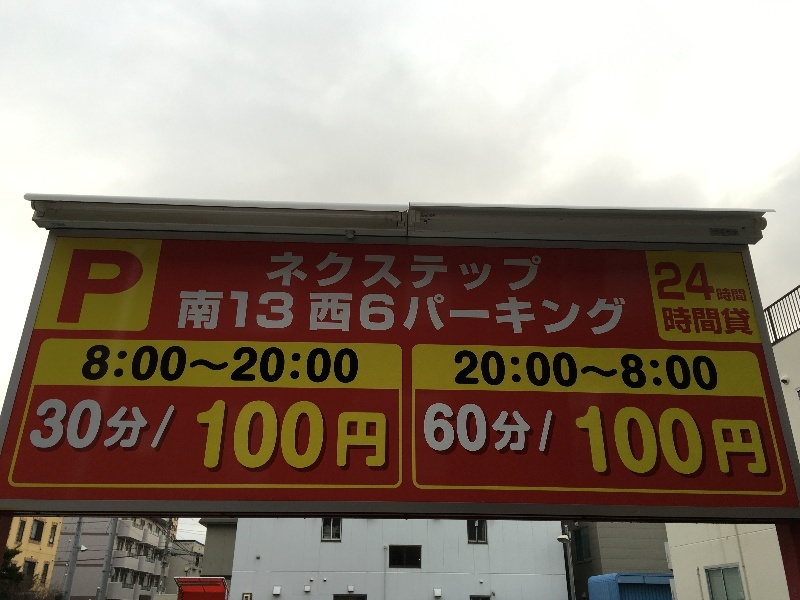text: (81, 245, 96, 332), (97, 245, 112, 332), (113, 245, 128, 332), (129, 245, 144, 332), (577, 400, 592, 483), (593, 400, 608, 483), (609, 400, 624, 483), (625, 400, 640, 483), (641, 400, 656, 483), (657, 400, 672, 483), (673, 400, 688, 483), (689, 400, 704, 483), (705, 400, 720, 483), (721, 400, 736, 483), (737, 400, 752, 483), (753, 400, 768, 483), (209, 393, 224, 474), (225, 393, 240, 474), (241, 393, 256, 474), (257, 393, 272, 474), (273, 393, 288, 474), (289, 393, 304, 474), (305, 393, 320, 474), (321, 393, 336, 474), (337, 393, 352, 474), (353, 393, 368, 474), (369, 393, 384, 474), (67, 245, 80, 332), (545, 397, 561, 459), (433, 397, 448, 459), (449, 397, 464, 459), (465, 397, 480, 459), (481, 397, 496, 459), (497, 397, 512, 459), (513, 397, 528, 459), (529, 397, 544, 459), (49, 396, 64, 456), (65, 396, 80, 456), (81, 396, 96, 456), (97, 396, 112, 456), (113, 396, 128, 456), (129, 396, 144, 456), (145, 396, 160, 456), (161, 396, 176, 456), (197, 393, 208, 474), (193, 287, 208, 340), (209, 287, 224, 340), (225, 287, 240, 340), (241, 287, 256, 340), (257, 287, 272, 340), (273, 287, 288, 340), (289, 287, 304, 340), (305, 287, 320, 340), (321, 287, 336, 340), (337, 287, 352, 340), (353, 287, 368, 340), (369, 287, 384, 340), (385, 287, 400, 340), (401, 287, 416, 340), (417, 287, 432, 340), (433, 287, 448, 340), (449, 287, 464, 340), (465, 287, 480, 340), (481, 287, 496, 340), (497, 287, 512, 340), (513, 287, 528, 340), (529, 287, 544, 340), (545, 287, 560, 340), (561, 287, 576, 340), (577, 287, 592, 340), (593, 287, 608, 340), (609, 287, 624, 340), (657, 256, 672, 306), (673, 256, 688, 306), (689, 256, 704, 306), (465, 346, 480, 396), (481, 346, 496, 396), (497, 346, 512, 396), (513, 346, 528, 396), (529, 346, 544, 396), (545, 346, 560, 396), (561, 346, 576, 396), (577, 346, 592, 396), (593, 346, 608, 396), (609, 346, 624, 396), (625, 346, 640, 396), (641, 346, 656, 396), (657, 346, 672, 396), (673, 346, 688, 396), (689, 346, 704, 396), (705, 346, 720, 396), (81, 340, 96, 388), (97, 340, 112, 388), (113, 340, 128, 388), (129, 340, 144, 388), (145, 340, 160, 388), (161, 340, 176, 388), (177, 340, 192, 388), (193, 340, 208, 388), (209, 340, 224, 388), (225, 340, 240, 388), (241, 340, 256, 388), (257, 340, 272, 388), (273, 340, 288, 388), (289, 340, 304, 388), (305, 340, 320, 388), (321, 340, 336, 388), (337, 340, 352, 388), (705, 256, 719, 306), (145, 245, 153, 332), (273, 250, 288, 296), (289, 250, 304, 296), (305, 250, 320, 296), (321, 250, 336, 296), (337, 250, 352, 296), (353, 250, 368, 296), (369, 250, 384, 296), (385, 250, 400, 296), (401, 250, 416, 296), (417, 250, 432, 296), (433, 250, 448, 296), (449, 250, 464, 296), (465, 250, 480, 296), (481, 250, 496, 296), (497, 250, 512, 296), (513, 250, 528, 296), (529, 250, 544, 296), (179, 287, 192, 340), (385, 393, 393, 474), (353, 340, 365, 388), (423, 397, 432, 459), (453, 346, 464, 396), (39, 396, 48, 456), (673, 305, 688, 339), (689, 305, 704, 339), (705, 305, 720, 339), (721, 305, 736, 339), (737, 305, 752, 339), (769, 400, 774, 483), (721, 280, 736, 307), (737, 280, 752, 307), (662, 305, 672, 339), (573, 400, 576, 483), (177, 396, 181, 456), (267, 250, 272, 296), (625, 287, 628, 340), (721, 346, 724, 396), (753, 305, 756, 339), (654, 256, 656, 306), (717, 280, 720, 307), (545, 250, 546, 296)
